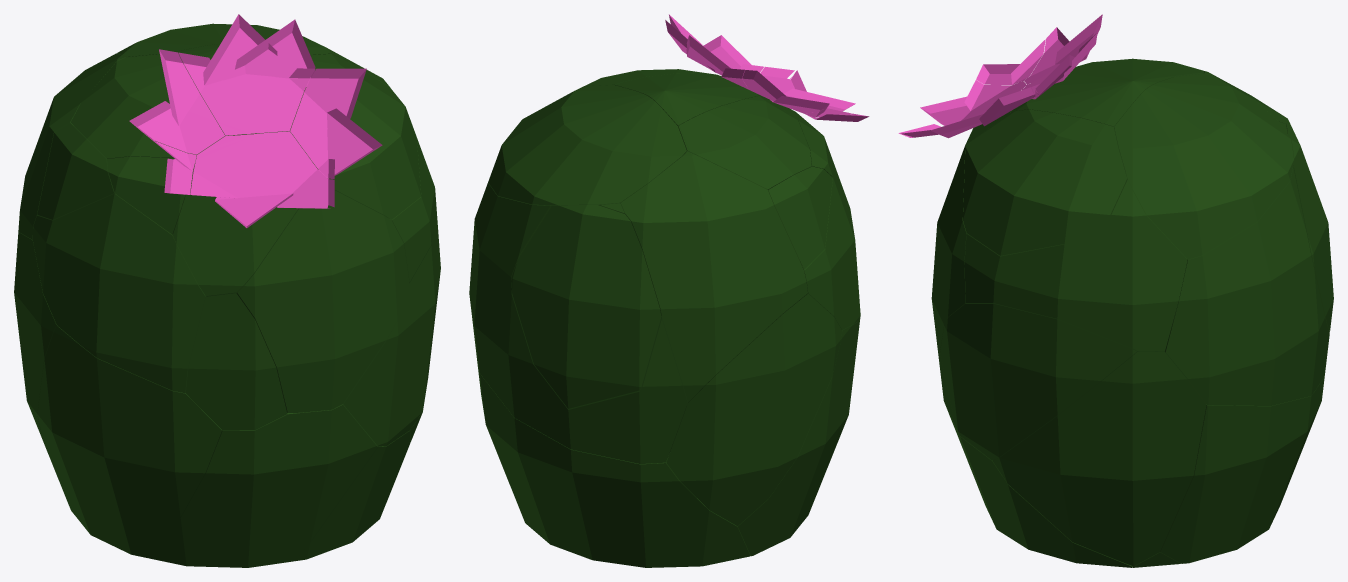
File: BrokenCactus.fbx
The picture shows the model from 3 angles, left to right: view 1: azimuth 30°, elevation 25°; view 2: azimuth 150°, elevation 25°; view 3: azimuth 270°, elevation 25°; orthographic projection. The views are drawn at different scales.
Parts seen in each view (by area): view 1: Cylinder_cell.009, Cylinder_cell.016, Cylinder_cell.010, Cylinder_cell.012, Cylinder_cell.018, Cylinder_cell.023, Cylinder_cell.006, Cylinder_cell.026, Cylinder_cell.007, Cylinder_cell.013, Cylinder_cell.011, Cylinder_cell.005 (+10 smaller); view 2: Cylinder_cell.002, Cylinder_cell.004, Cylinder_cell.003, Cylinder_cell.015, Cylinder_cell.020, Cylinder_cell, Cylinder_cell.013, Cylinder_cell.009, Cylinder_cell.010, Cylinder_cell.025, Cylinder_cell.027, Cylinder_cell.018 (+6 smaller); view 3: Cylinder_cell.001, Cylinder_cell.020, Cylinder_cell, Cylinder_cell.018, Cylinder_cell.017, Cylinder_cell.026, Cylinder_cell.003, Cylinder_cell.005, Cylinder_cell.027, Cylinder_cell.016, Cylinder_cell.004, Cylinder_cell.013 (+6 smaller).
Part boxes in pixels (x1,y1,x2,y2): Cylinder_cell.009: (37,325,222,557); Cylinder_cell.016: (235,190,409,412); Cylinder_cell.010: (32,192,205,392); Cylinder_cell.012: (148,404,377,567); Cylinder_cell.018: (288,54,421,219); Cylinder_cell.023: (178,14,315,135); Cylinder_cell.006: (186,293,287,430); Cylinder_cell.026: (343,209,440,446); Cylinder_cell.007: (172,158,298,296); Cylinder_cell.013: (70,54,224,158); Cylinder_cell.011: (190,131,334,208); Cylinder_cell.005: (295,431,410,561); Cylinder_cell.002: (620,151,807,404); Cylinder_cell.004: (511,205,661,408); Cylinder_cell.003: (473,326,750,567); Cylinder_cell.015: (666,293,841,526); Cylinder_cell.020: (469,182,687,463); Cylinder_cell: (488,85,686,205); Cylinder_cell.013: (678,96,811,190); Cylinder_cell.009: (738,320,859,556); Cylinder_cell.010: (800,174,860,329); Cylinder_cell.025: (768,166,832,269); Cylinder_cell.027: (614,73,766,125); Cylinder_cell.018: (584,14,763,86); Cylinder_cell.001: (992,351,1206,566); Cylinder_cell.020: (1165,122,1329,405); Cylinder_cell: (1114,73,1293,259); Cylinder_cell.018: (930,87,1126,255); Cylinder_cell.017: (964,172,1187,351); Cylinder_cell.026: (940,303,1136,460); Cylinder_cell.003: (1159,377,1324,563); Cylinder_cell.005: (957,430,1133,567); Cylinder_cell.027: (1011,70,1173,127); Cylinder_cell.016: (909,137,966,351); Cylinder_cell.004: (1286,124,1333,332); Cylinder_cell.013: (1069,58,1203,76).
Bounding box in the file's own units: 208 × 268 × 226.
